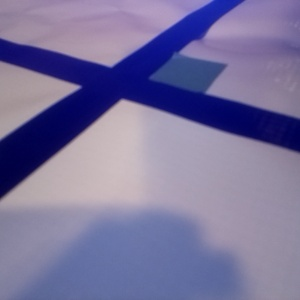bottom_left: (1, 88, 126, 158)
bottom_right: (89, 73, 213, 127)
